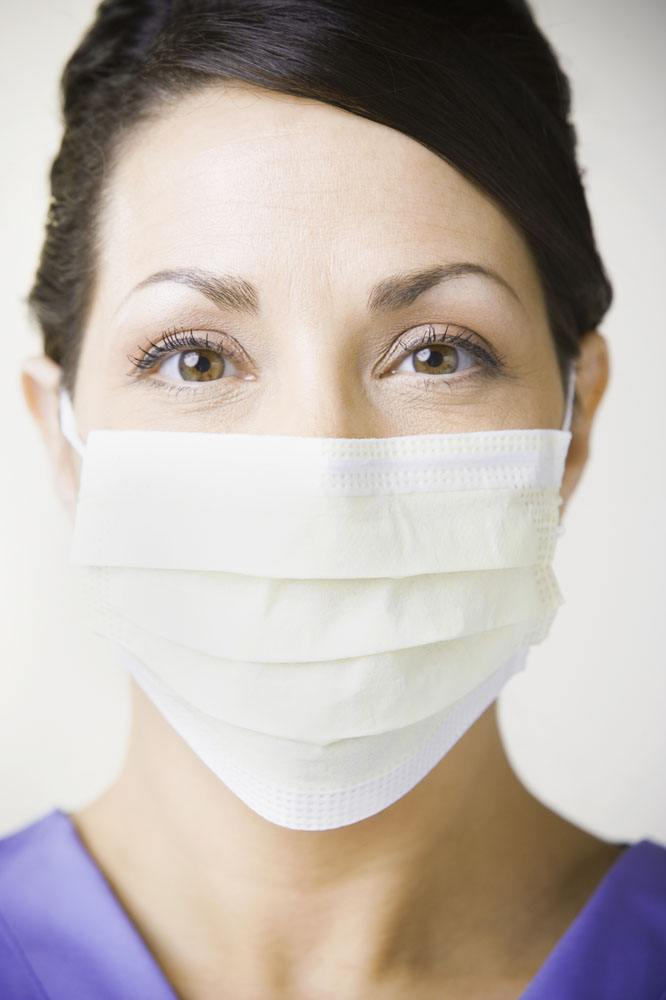correctlyWear: (14, 193, 611, 832)
